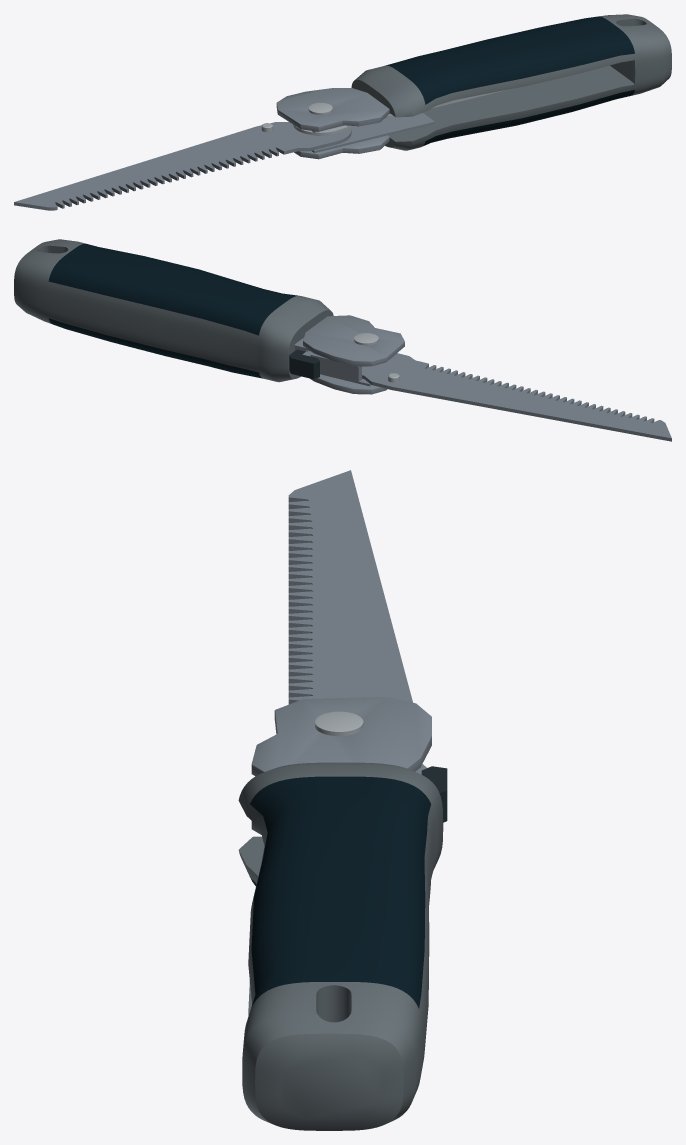
3 views of the same model, one above another, from view 1: azimuth 30°, elevation 25°; view 2: azimuth 150°, elevation 25°; view 3: azimuth 270°, elevation 25° (orthographic). The views are drawn at different scales.
Visible parts, largest first — view 1: part_000_structural_grip_shell, part_004_near_grip_overmold, part_010_extended_toothed_blade, part_003_near_hinge_cheek, part_006_internal_U_carrier, part_009_far_grip_overmold, part_008_far_hinge_cheek, part_001_stored_perforated_rasp; view 2: part_000_structural_grip_shell, part_004_near_grip_overmold, part_010_extended_toothed_blade, part_003_near_hinge_cheek, part_009_far_grip_overmold, part_005_lock_engagement_tongue, part_008_far_hinge_cheek, part_011_dorsal_lock_slider; view 3: part_004_near_grip_overmold, part_000_structural_grip_shell, part_010_extended_toothed_blade, part_003_near_hinge_cheek, part_012_continuous_pivot_rivet.
Boxes of the visible parts, x1,y1,x2,y2 form: part_000_structural_grip_shell: (351,14,671,150); part_004_near_grip_overmold: (386,16,634,104); part_010_extended_toothed_blade: (14,122,351,210); part_003_near_hinge_cheek: (276,88,389,131); part_006_internal_U_carrier: (311,113,434,152); part_009_far_grip_overmold: (423,90,634,146); part_008_far_hinge_cheek: (294,135,389,159); part_001_stored_perforated_rasp: (293,89,507,135); part_000_structural_grip_shell: (14,239,333,382); part_004_near_grip_overmold: (48,243,297,335); part_010_extended_toothed_blade: (362,353,671,441); part_003_near_hinge_cheek: (303,315,404,366); part_009_far_grip_overmold: (48,318,262,378); part_005_lock_engagement_tongue: (302,351,361,381); part_008_far_hinge_cheek: (310,374,387,394); part_011_dorsal_lock_slider: (289,349,319,379); part_004_near_grip_overmold: (250,776,431,1008); part_000_structural_grip_shell: (238,762,443,1130); part_010_extended_toothed_blade: (288,470,412,704); part_003_near_hinge_cheek: (251,697,431,776); part_012_continuous_pivot_rivet: (315,711,363,736).
Bounding box in the file's own units: 0.286 × 0.0298 × 0.0405.
